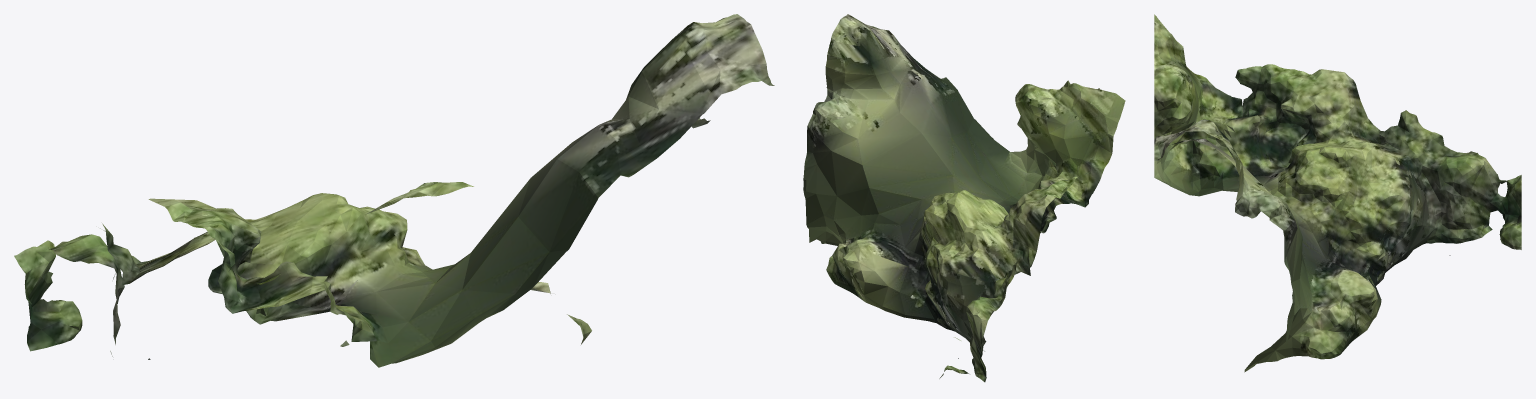
3 renders of one model, left to right at view 1: azimuth 30°, elevation 25°; view 2: azimuth 150°, elevation 25°; view 3: azimuth 270°, elevation 25°, orthographic. The views are drawn at different scales.
Bounding box in the file's own units: 26.11 × 19.93 × 26.11.
3 materials, 3 textured.
